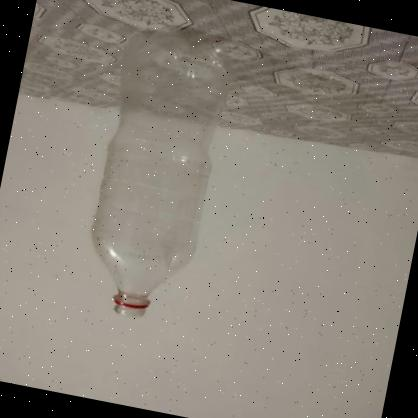bottle: (72, 19, 239, 328)
